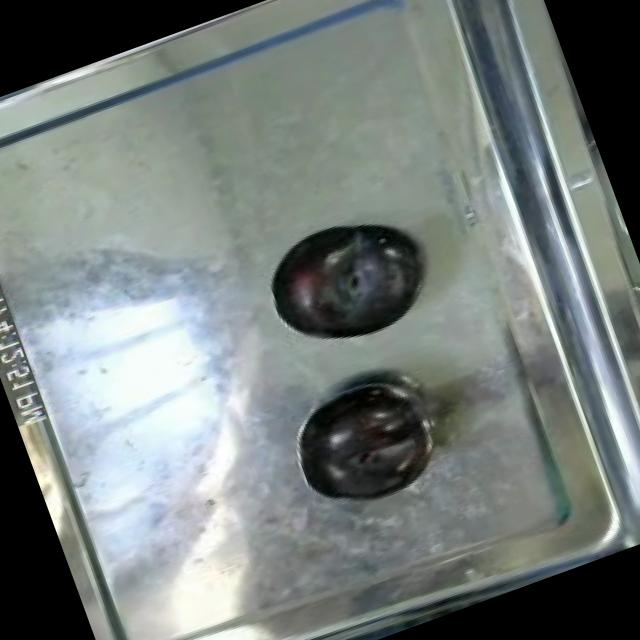Fruit: (250, 198, 436, 364), (282, 366, 446, 522)
